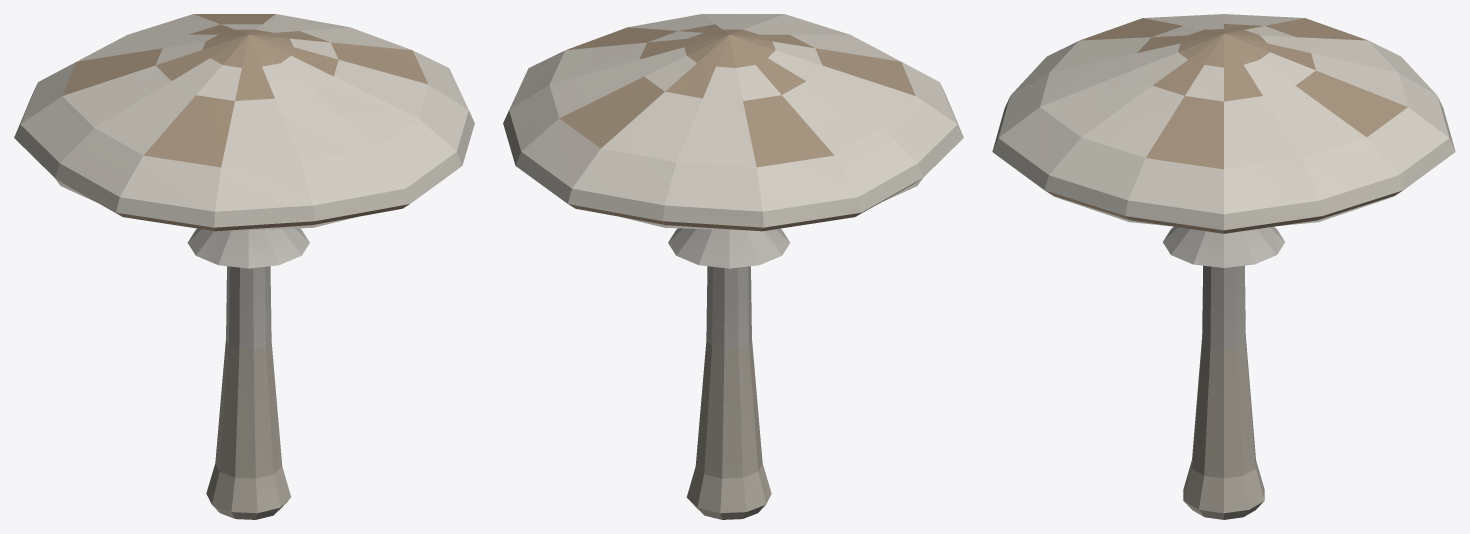
File: mushroom_parasol.glb
The picture shows the model from 3 angles, left to right: view 1: azimuth 30°, elevation 25°; view 2: azimuth 150°, elevation 25°; view 3: azimuth 270°, elevation 25°; orthographic projection.
Bounding box in the file's own units: 0.302 × 0.34 × 0.3024.
